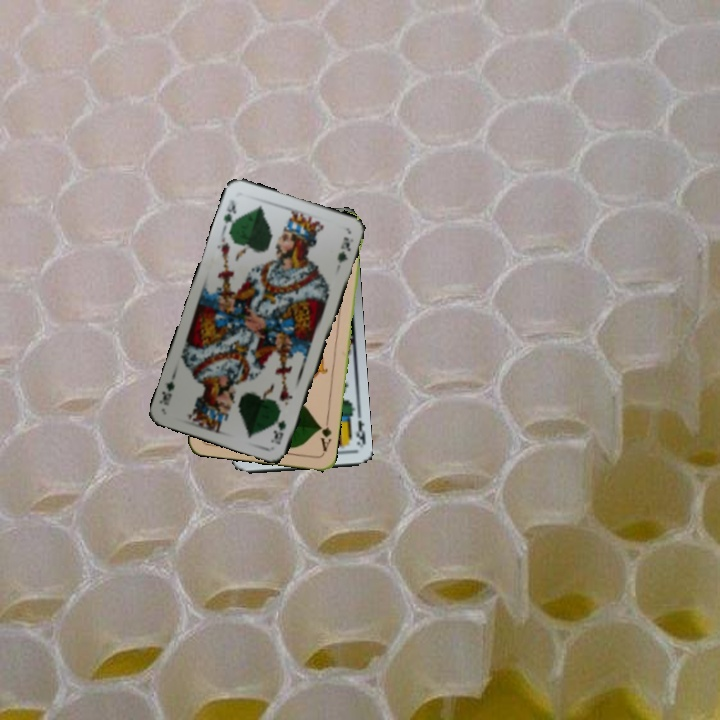EK: (352, 416, 368, 450)
GA: (315, 414, 334, 454)
GK: (219, 195, 239, 232), (269, 416, 289, 447)
